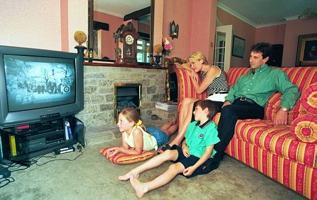person: (193, 42, 301, 175)
